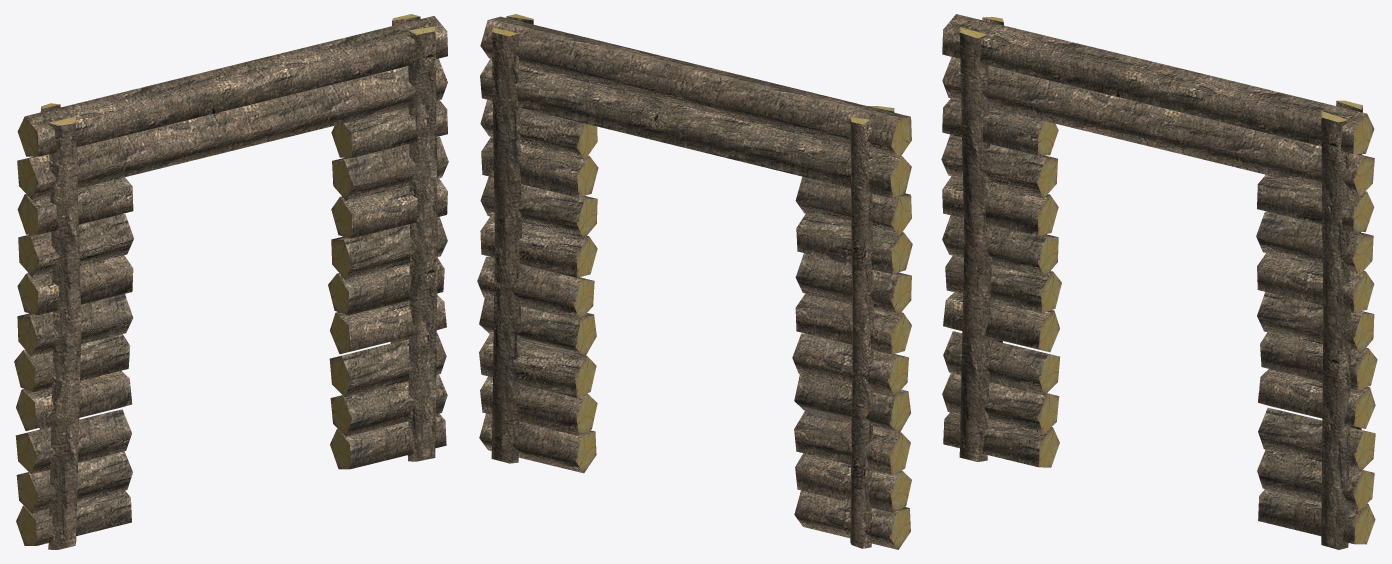
File: construction_wood_wall_door_mesh.fbx
3 renders of one model, left to right at view 1: azimuth 30°, elevation 25°; view 2: azimuth 150°, elevation 25°; view 3: azimuth 330°, elevation 25°, orthographic.
Visible parts, largest first — view 1: construction_wood_wall_door_mesh; view 2: construction_wood_wall_door_mesh; view 3: construction_wood_wall_door_mesh.
Boxes of the visible parts, x1=… form: construction_wood_wall_door_mesh: x1=14, y1=14, x2=448, y2=549; construction_wood_wall_door_mesh: x1=477, y1=14, x2=912, y2=549; construction_wood_wall_door_mesh: x1=941, y1=14, x2=1377, y2=549.
Bounding box in the file's own units: 300 × 302 × 33.08.
